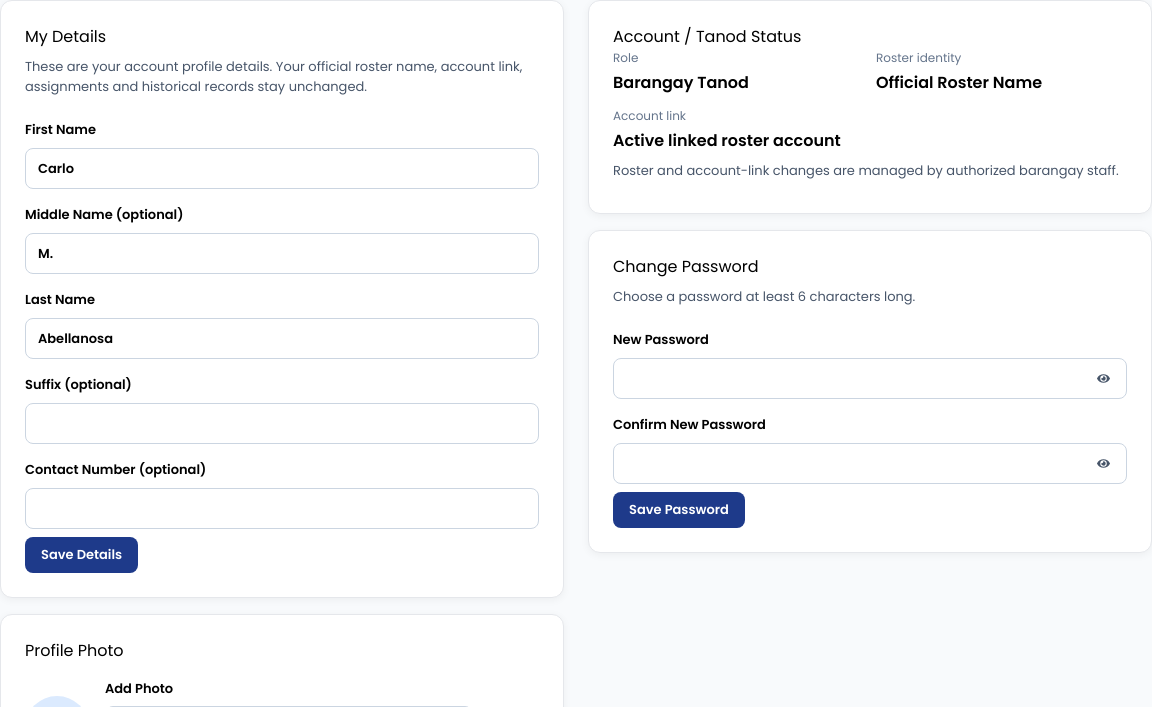
Test: password reveal is accessible and valid updates use existing Auth API, then clear fields
Type "new-secret" into the password field labelled "New Password" at (870, 378), box [613,358,1127,399]
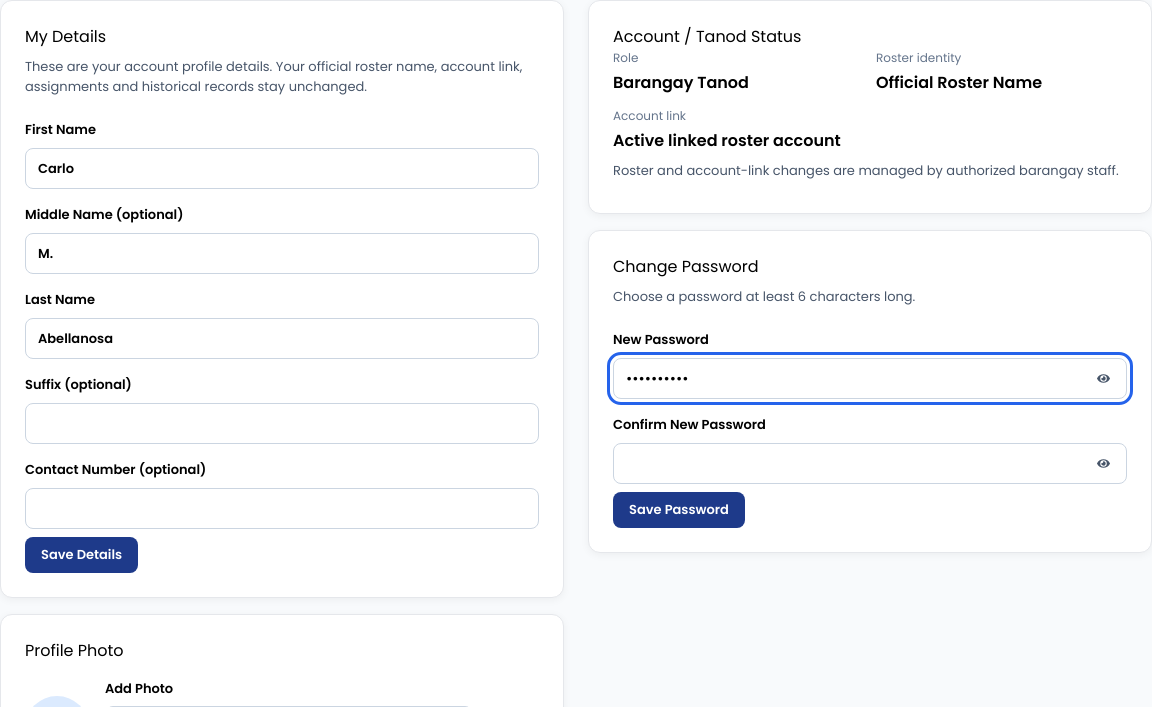
Type "new-secret" into the password field labelled "Confirm New Password" at (870, 463), box [613,442,1127,484]
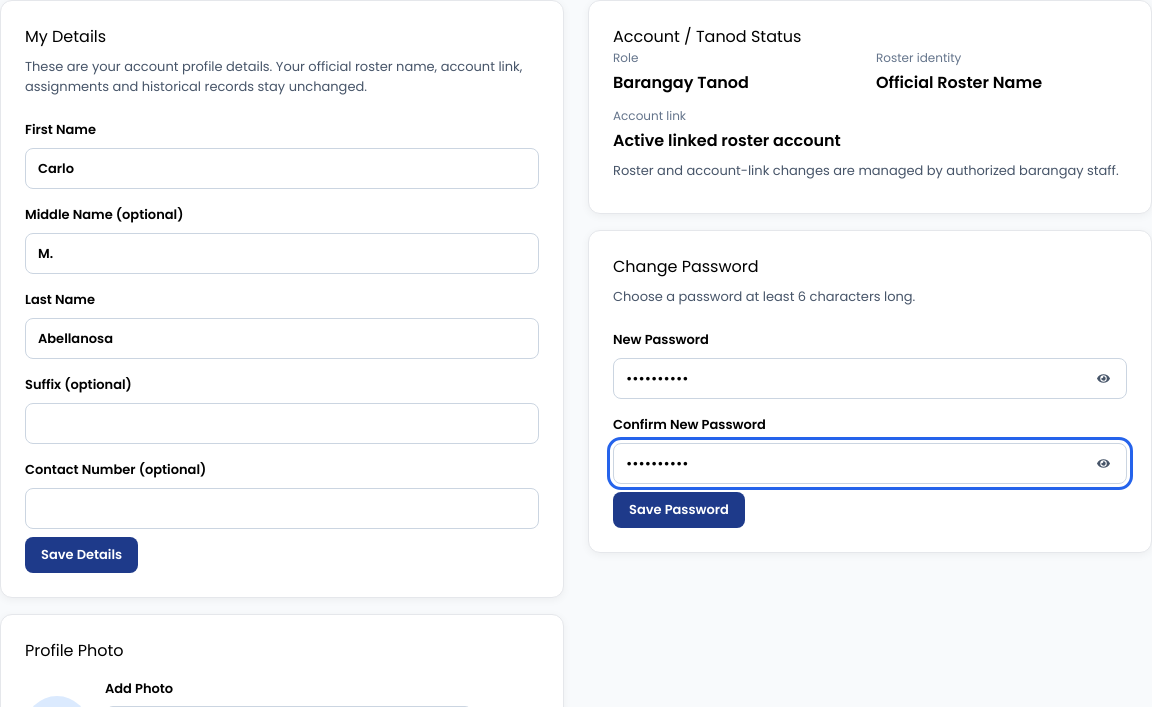
Click the button named "Show new password" at (1103, 378), box [1083,358,1123,399]
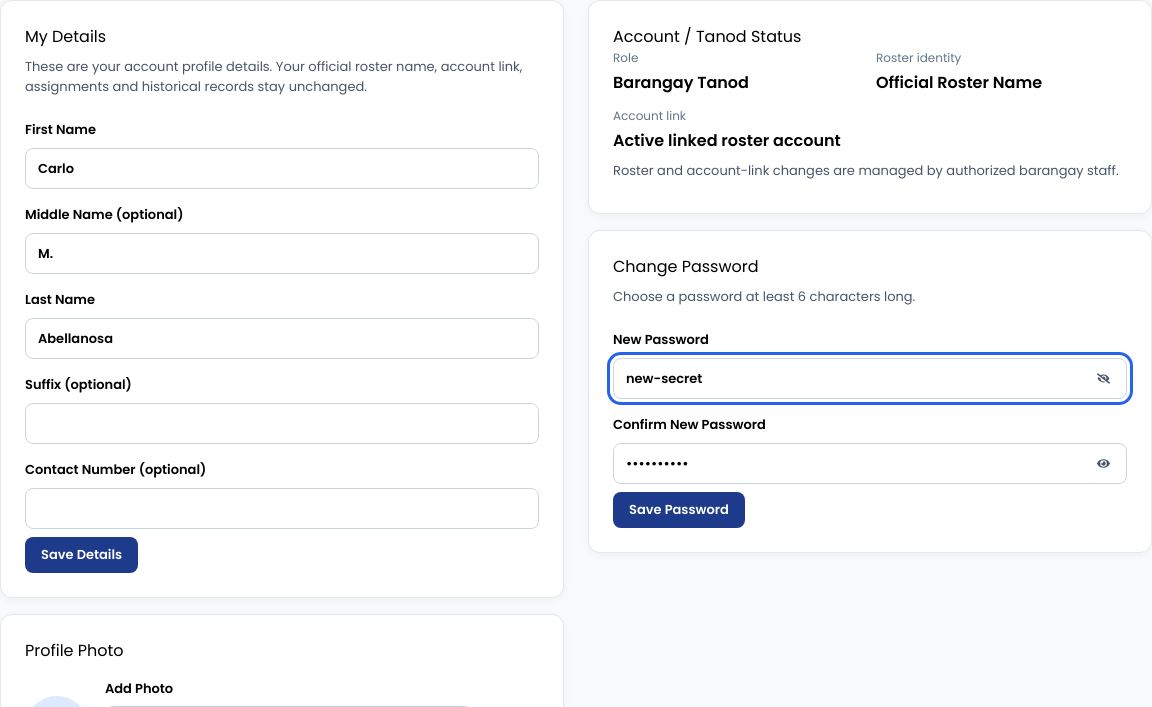
Now the field labelled "New Password" shows its text, box [613,358,1127,399]
Click the button "Save Password" at (679, 510), box [613,492,745,528]
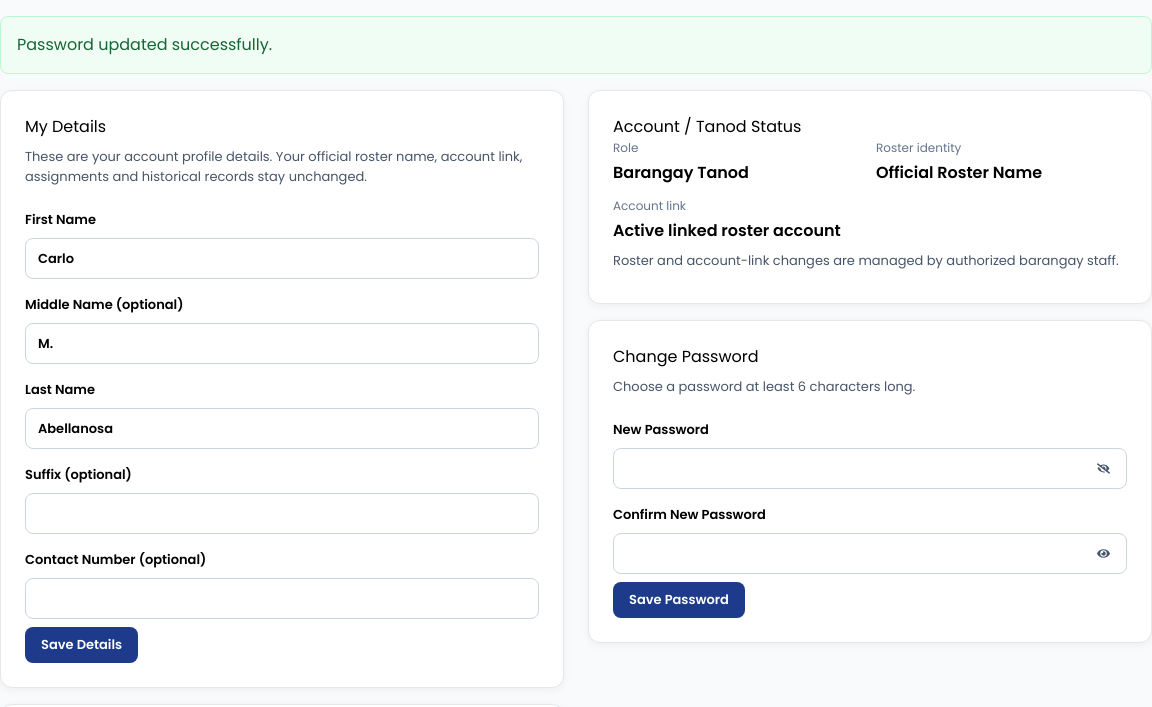
Now the text "Password updated successfully." is shown, box [0,16,1151,74]
Now the field labelled "New Password" is empty, box [613,448,1127,489]
